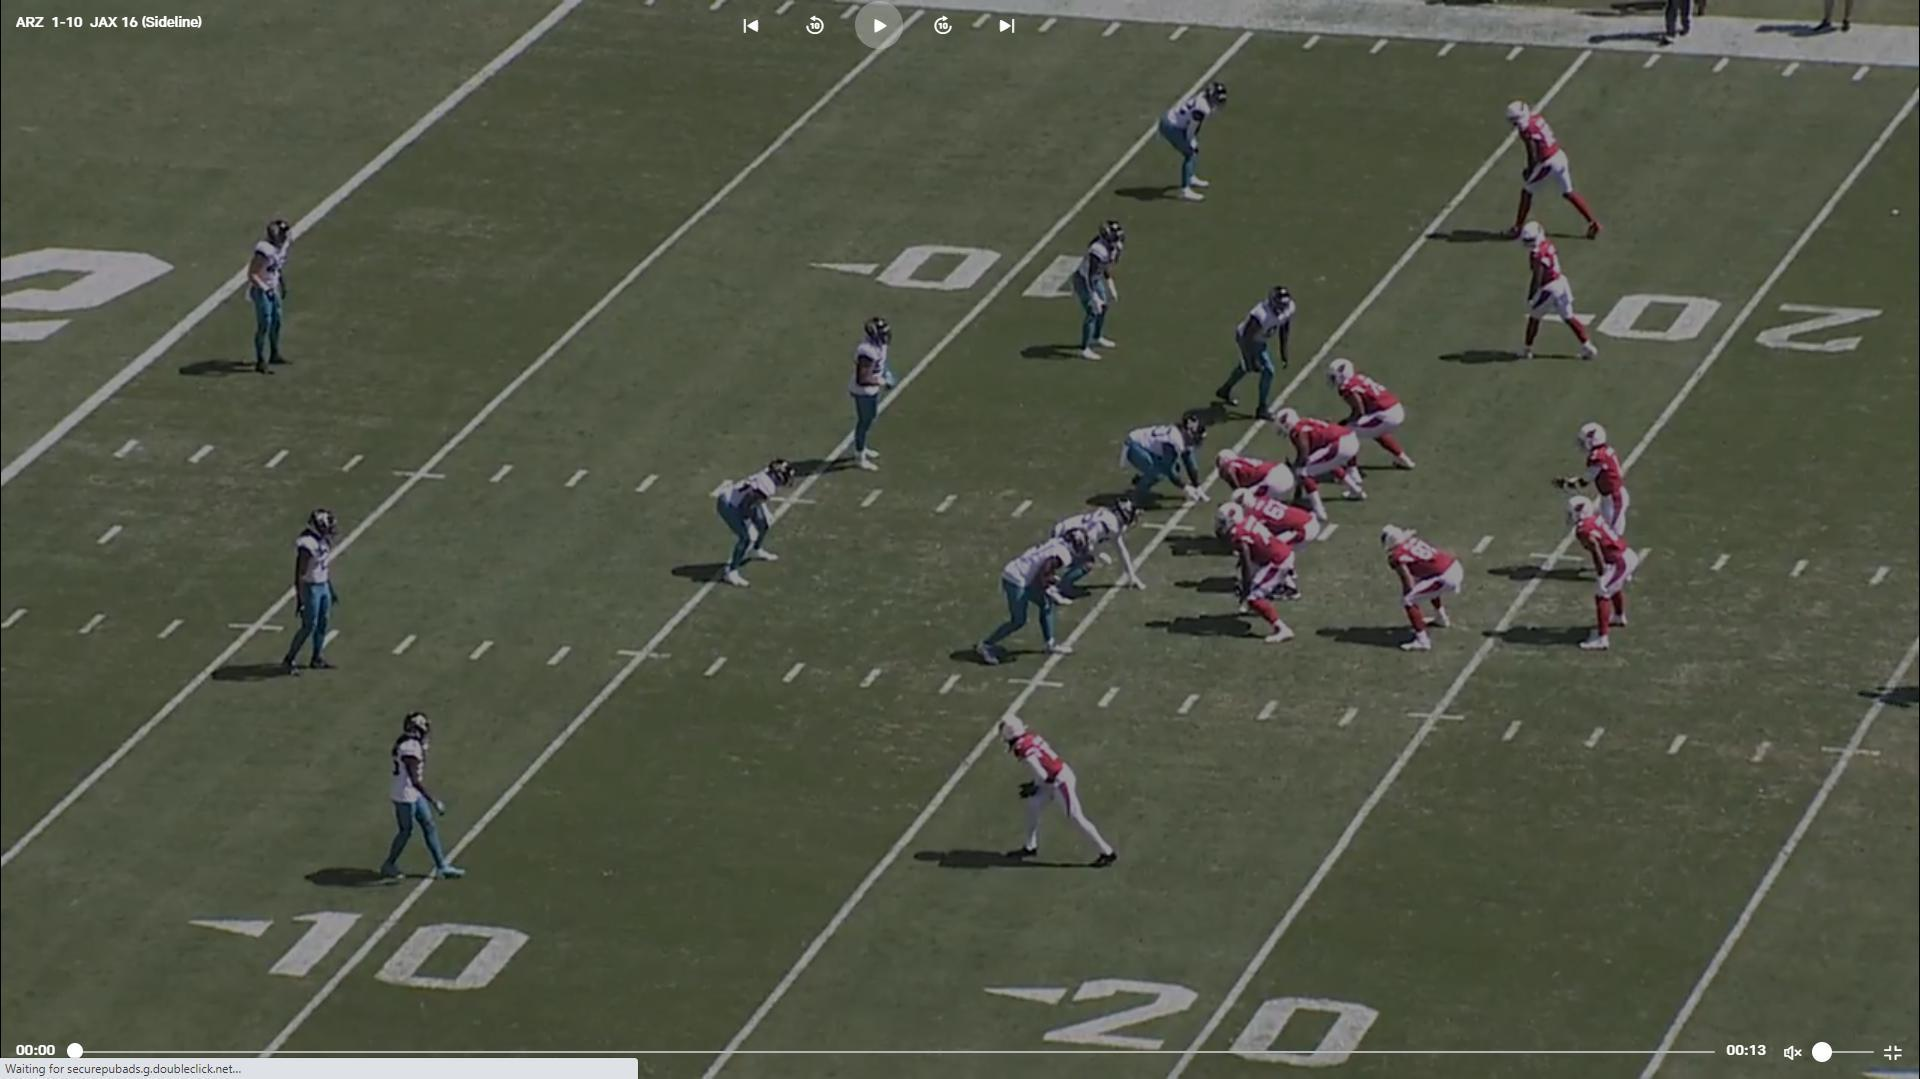defense: (373, 711, 470, 895), (975, 534, 1088, 664), (269, 505, 344, 682), (1211, 287, 1300, 423), (709, 453, 791, 589), (238, 210, 302, 378), (1106, 420, 1205, 522), (1158, 75, 1233, 208), (840, 313, 898, 481), (1069, 215, 1129, 361), (1045, 503, 1138, 596)
oline: (1222, 516, 1305, 653), (1332, 358, 1421, 479), (1282, 403, 1370, 505), (1235, 492, 1315, 550), (1222, 447, 1300, 505)
qb: (1578, 420, 1644, 573)
ref: (1658, 0, 1716, 45)
skill: (999, 716, 1130, 879), (1499, 101, 1602, 245), (1509, 229, 1599, 365), (1563, 502, 1640, 657), (1387, 524, 1471, 655)
